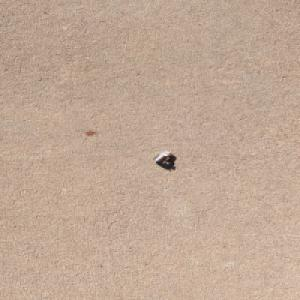MetalPart: (152, 150, 172, 165)
